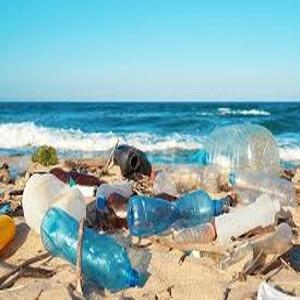Plastic: (39, 207, 145, 295), (126, 193, 222, 238), (226, 165, 294, 205)
